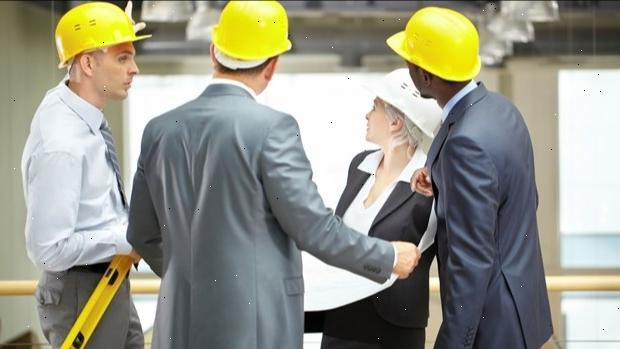helmet: (385, 5, 482, 81), (52, 0, 153, 68), (206, 0, 297, 70), (373, 69, 439, 136)
no_wear: (137, 97, 298, 313), (437, 98, 546, 305), (24, 104, 127, 270), (337, 152, 430, 319)
